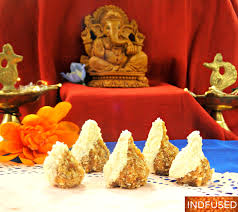modak: (110, 129, 150, 193), (142, 115, 178, 174), (74, 120, 108, 172), (176, 130, 210, 182), (42, 142, 77, 190)
